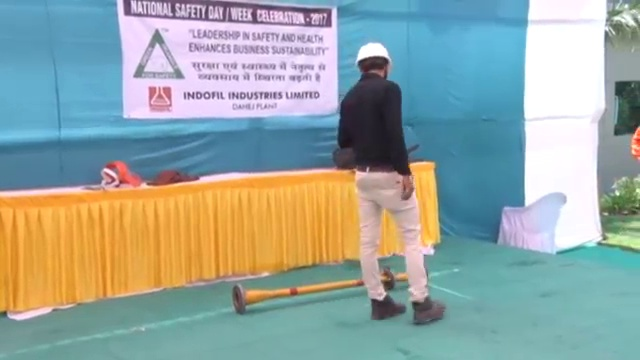helmet: (354, 42, 393, 65)
helmet_on: (352, 41, 395, 83)
person: (338, 40, 443, 321)
